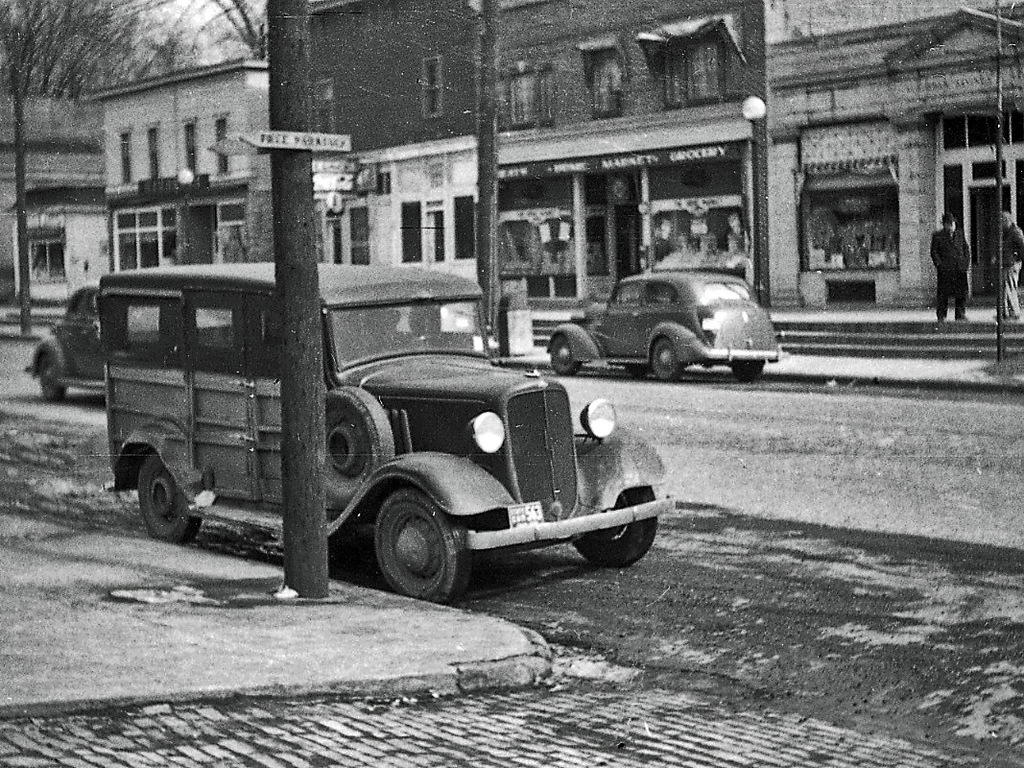Car: (103, 260, 673, 607), (547, 259, 785, 386), (24, 288, 220, 401)
